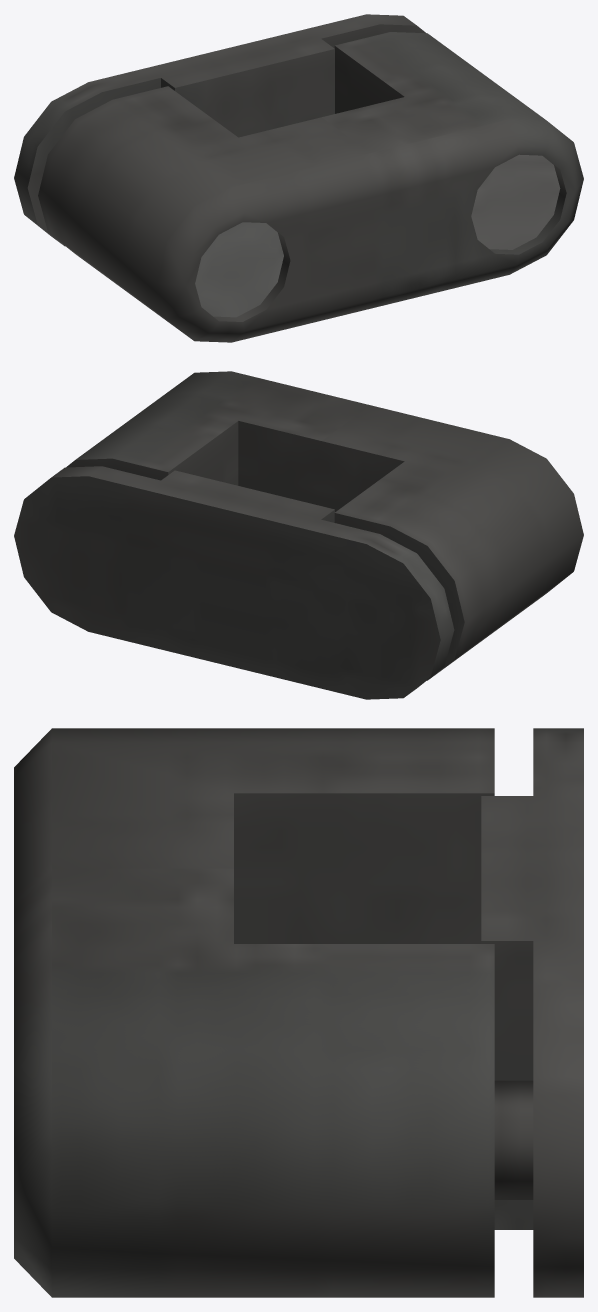
The model's file is cable_mount.gltf.
3 views of the same model, one above another, from view 1: azimuth 30°, elevation 25°; view 2: azimuth 150°, elevation 25°; view 3: azimuth 270°, elevation 25° (orthographic). The views are drawn at different scales.
Parts seen in each view (by area): view 1: cable_mount; view 2: cable_mount; view 3: cable_mount.
Boxes of the visible parts, <box> form: cable_mount: <box>14,14,583,342</box>; cable_mount: <box>14,371,583,699</box>; cable_mount: <box>14,728,583,1297</box>.
Size of the model in its own units: 0.0416 by 0.0145 by 0.0259.
1 material, 1 textured.
